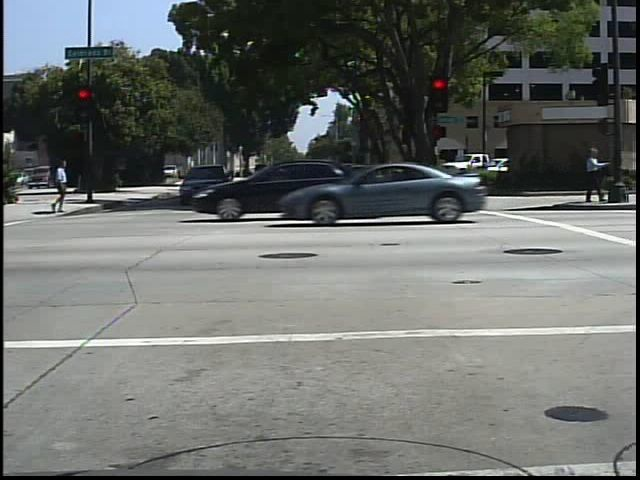person: (581, 143, 609, 207), (47, 157, 71, 216)
